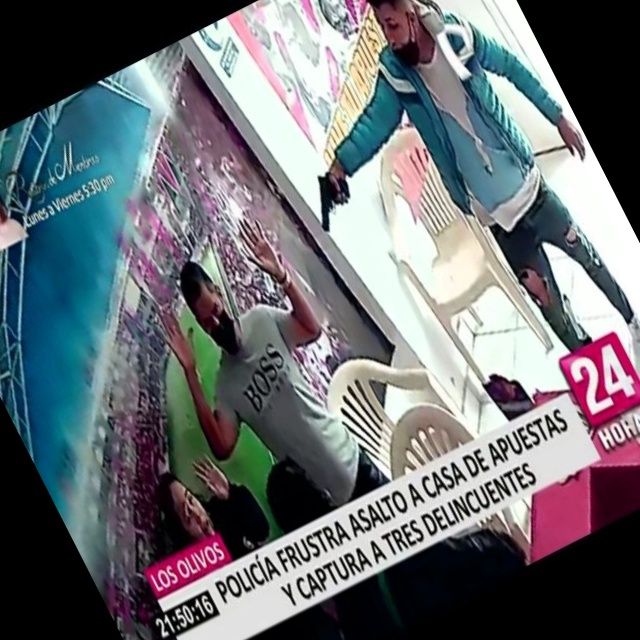gun: (282, 140, 374, 252)
